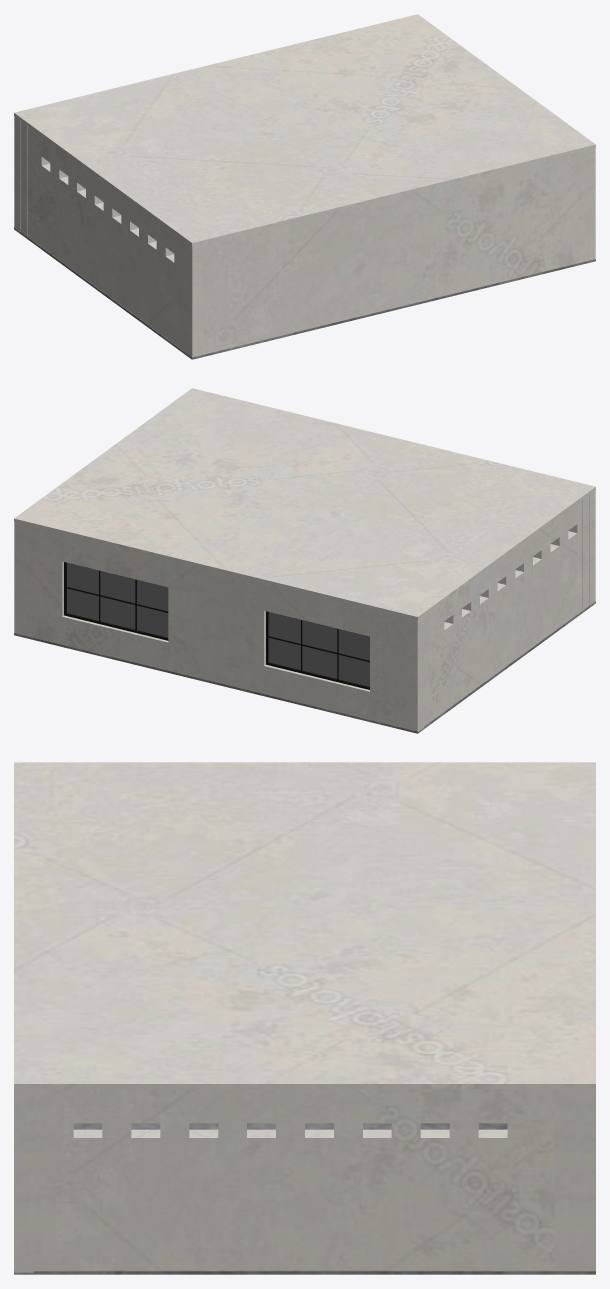
File: Interior.fbx
3 renders of one model, top to bottom at view 1: azimuth 30°, elevation 25°; view 2: azimuth 150°, elevation 25°; view 3: azimuth 270°, elevation 25°, orthographic. The views are drawn at different scales.
Visible parts, largest first — view 1: Plane.005, Plane.008, Plane.007, Plane.004, Cube.008, Plane.006; view 2: Plane.005, Plane.006, Plane.007, Plane.010, Plane.004, Cube.008, Plane.009, Plane.008; view 3: Plane.005, Plane.007, Cube.008, Plane.004, Plane.008, Plane.006.
Part boxes in pixels (x1,y1,x2,y2): Plane.005: [14, 14, 595, 246]; Plane.008: [186, 148, 595, 357]; Plane.007: [15, 14, 595, 357]; Plane.004: [14, 227, 595, 359]; Cube.008: [20, 121, 185, 352]; Plane.006: [14, 116, 20, 231]; Plane.005: [14, 388, 595, 620]; Plane.006: [14, 522, 423, 731]; Plane.007: [14, 390, 594, 731]; Plane.010: [67, 563, 369, 686]; Plane.004: [14, 601, 595, 733]; Cube.008: [424, 495, 589, 726]; Plane.009: [64, 562, 369, 689]; Plane.008: [589, 490, 595, 605]; Plane.005: [14, 762, 595, 1089]; Plane.007: [14, 762, 595, 1270]; Cube.008: [34, 1089, 575, 1270]; Plane.004: [14, 1123, 595, 1274]; Plane.008: [14, 1088, 33, 1272]; Plane.006: [576, 1089, 595, 1271].
Bounding box in the file's own units: 1463 × 415 × 1118.
16 materials, 11 textured.
